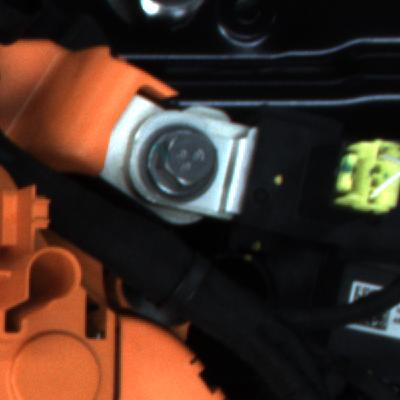nut_b: (138, 119, 224, 205)
